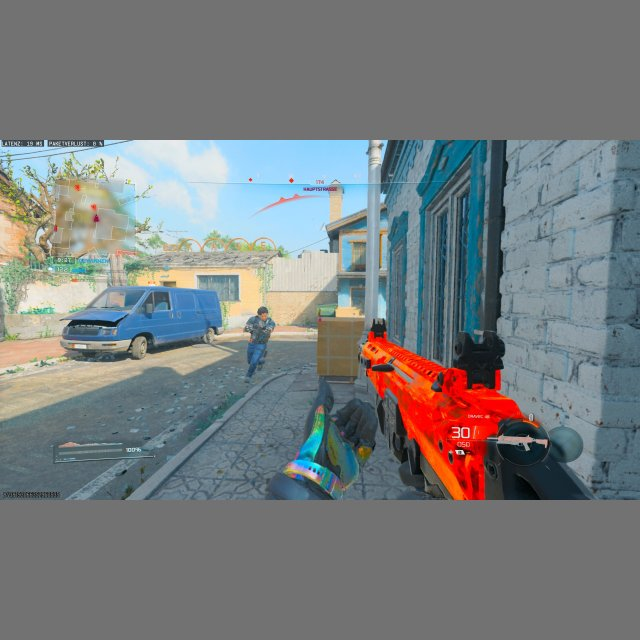head: (257, 306, 270, 319)
player: (243, 305, 276, 380)
